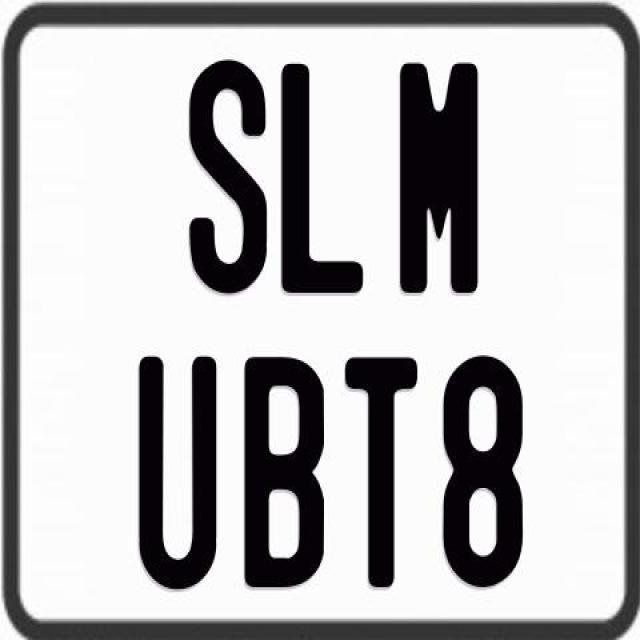8: (440, 350, 524, 590)
B: (243, 356, 329, 590)
L: (278, 59, 362, 293)
M: (396, 59, 482, 296)
S: (189, 54, 272, 296)
T: (346, 356, 418, 588)
U: (136, 354, 215, 596)
